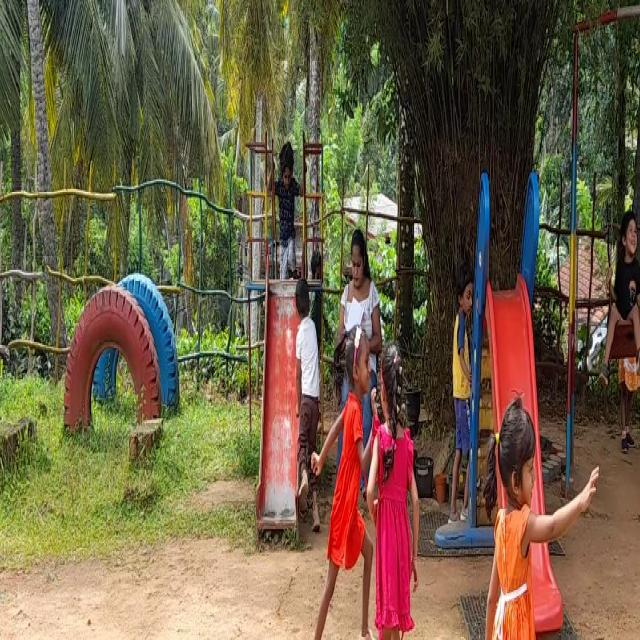child: (372, 360, 435, 640), (484, 415, 560, 640), (328, 334, 372, 640), (290, 285, 324, 510), (603, 209, 640, 397), (450, 269, 474, 526), (270, 130, 302, 277)
